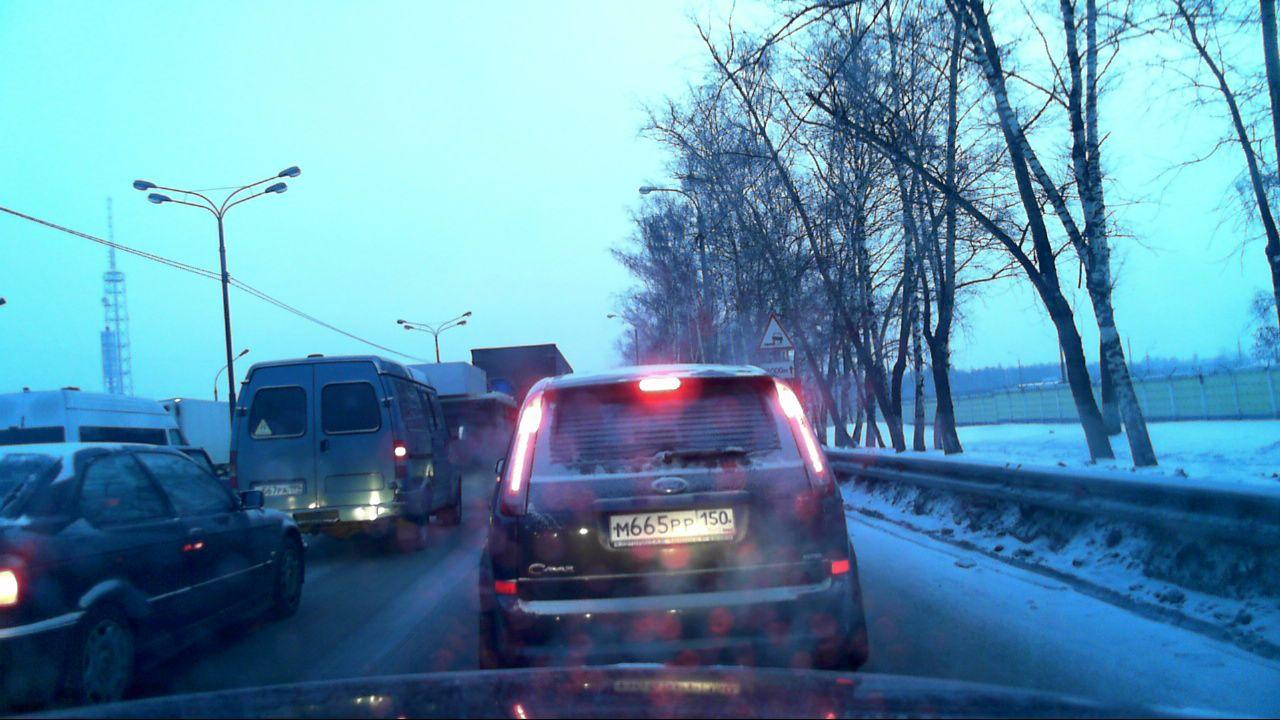1_19: (756, 316, 793, 352)
8_2_1: (756, 362, 795, 379)
